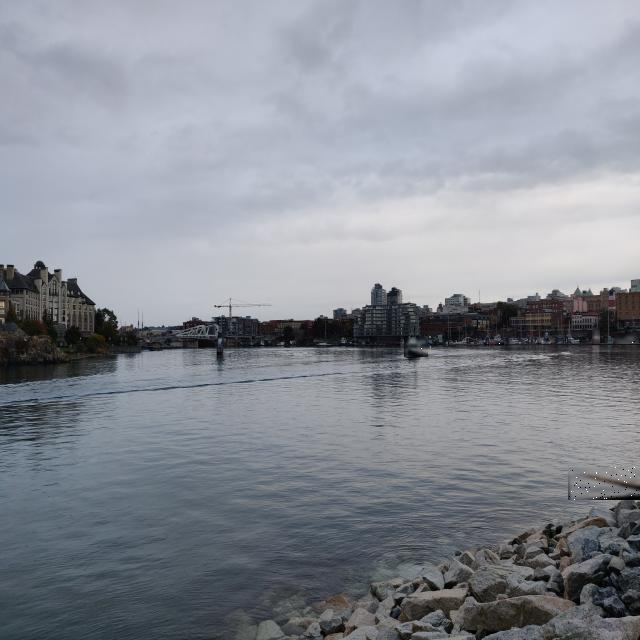boat: (404, 337, 428, 357), (614, 333, 639, 344), (592, 328, 600, 344), (482, 342, 504, 345)
debris: (568, 467, 640, 500)
mark: (216, 329, 224, 361)
